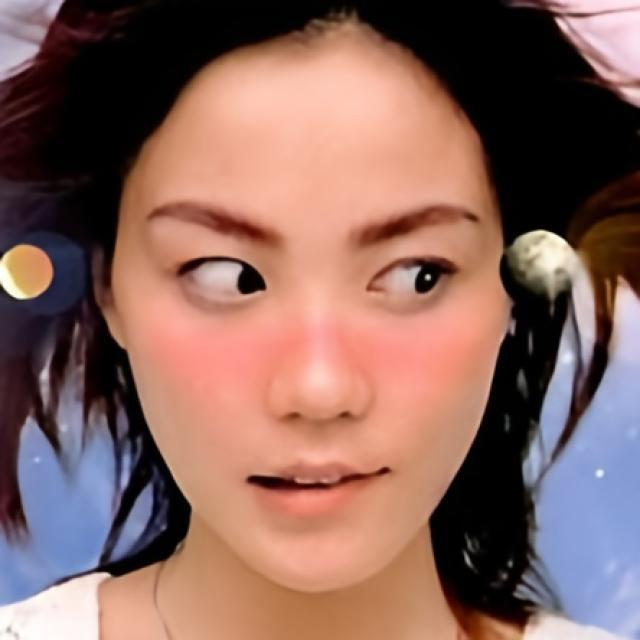surprise: (116, 33, 510, 590)
